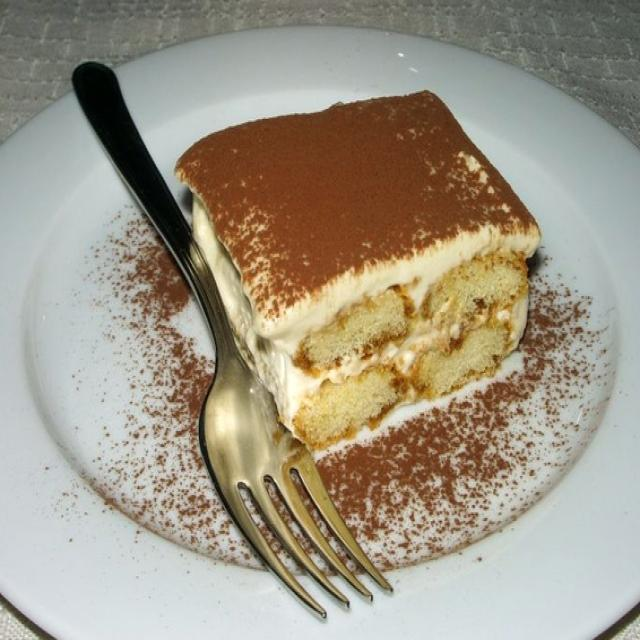蛋糕甜品: (1, 24, 636, 628)
